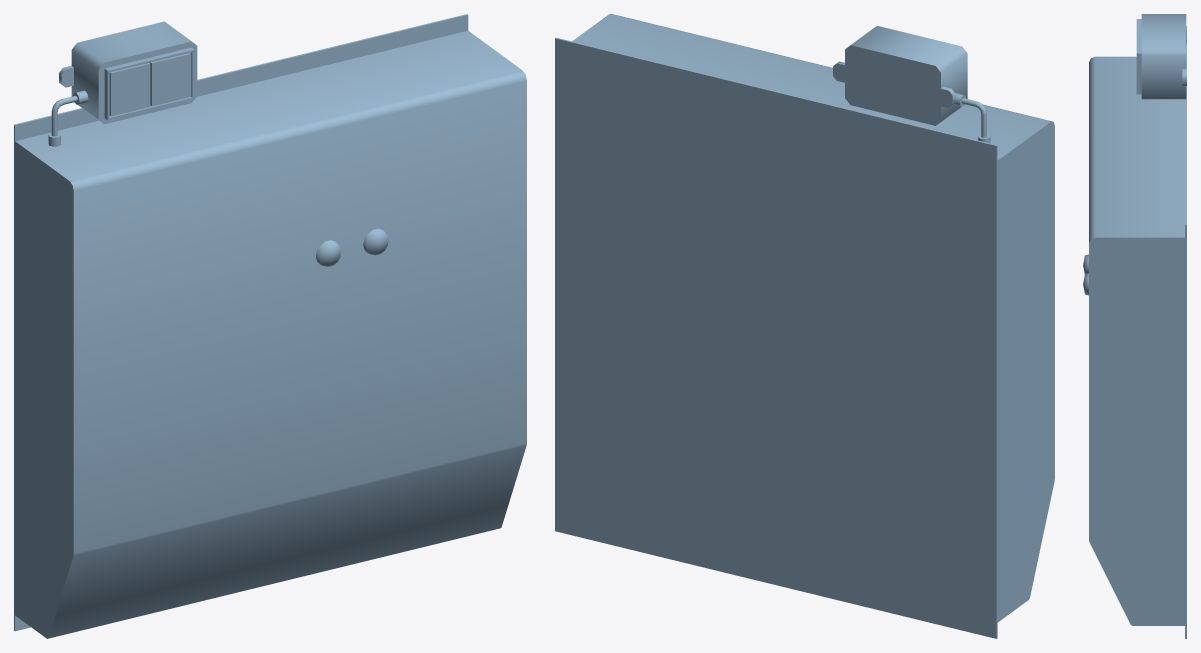
The model's file is Inverter_1.fbx.
The picture shows the model from 3 angles, left to right: view 1: azimuth 30°, elevation 25°; view 2: azimuth 150°, elevation 25°; view 3: azimuth 270°, elevation 25°; orthographic projection. The views are drawn at different scales.
Visible parts, largest first — view 1: Inverter_1_LOD0; view 2: Inverter_1_LOD0; view 3: Inverter_1_LOD0.
Boxes of the visible parts, x1,y1,x2,y2 form: Inverter_1_LOD0: [14, 14, 526, 638]; Inverter_1_LOD0: [555, 14, 1054, 638]; Inverter_1_LOD0: [1083, 14, 1186, 638].
Size of what is drawn, in the model's own units: 0.5964 by 0.7202 by 0.1446.
